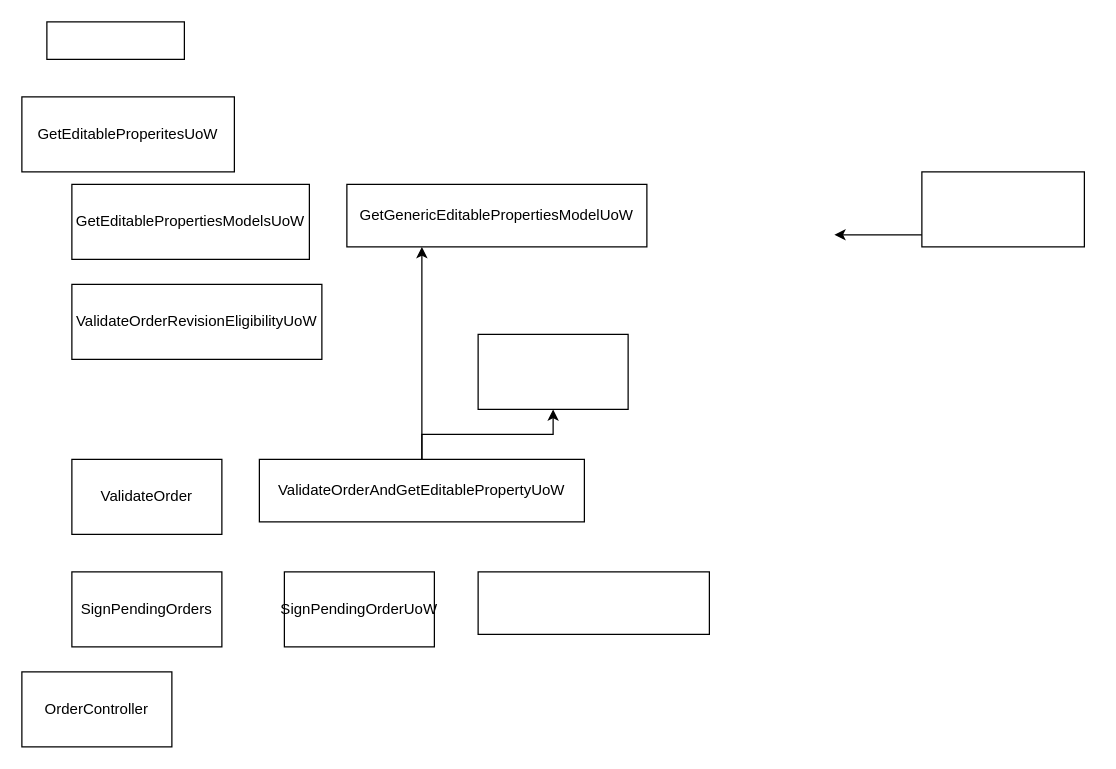
Image size: 1116x769. Some labels were removed from this diagram. Here are the shapes that lost their labels. From the top down, the centre of each, then its label:
At pixel 115 40: "PatientController".
At pixel 1002 209: "GetDialysisOrderUoW".
At pixel 552 371: "ValidateOrderUoW".
At pixel 593 602: "ValidateOrderRevisionEligibility".
